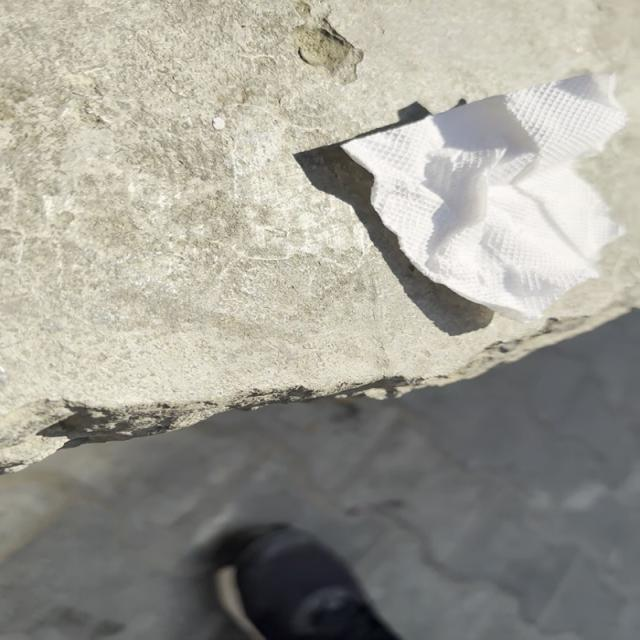tissue: (330, 66, 629, 326)
